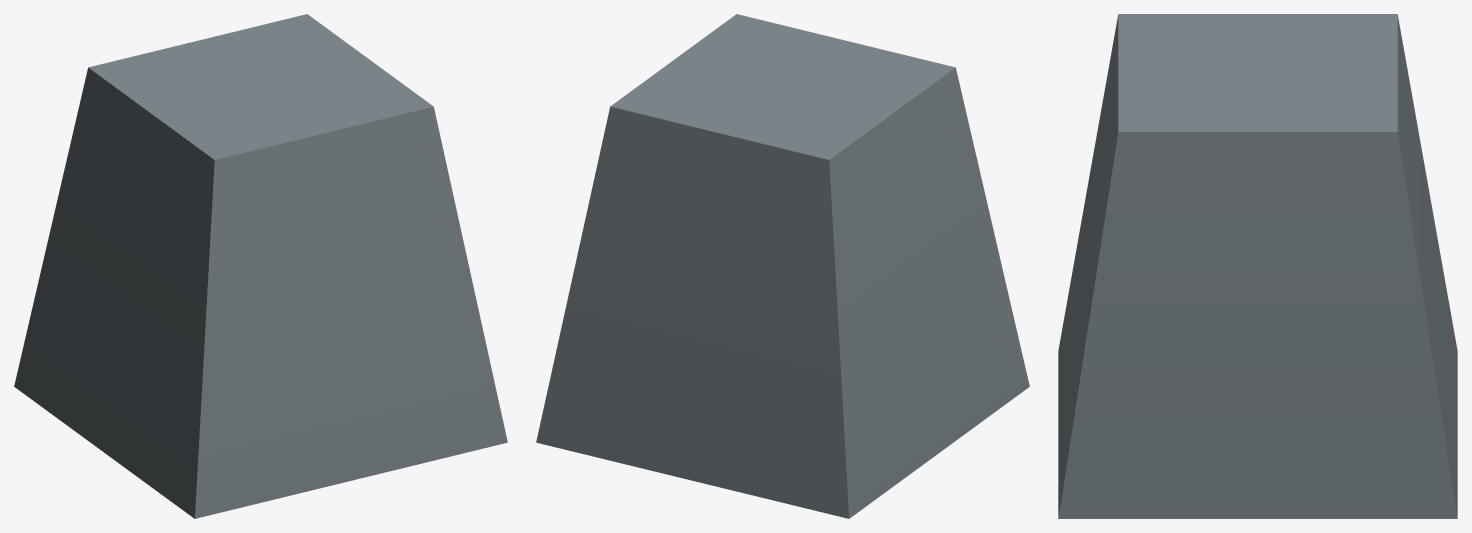
Rendered from kf_rock_2_a.fbx.
3 views of the same model, side by side, from view 1: azimuth 30°, elevation 25°; view 2: azimuth 150°, elevation 25°; view 3: azimuth 270°, elevation 25° (orthographic). The views are drawn at different scales.
Parts seen in each view (by area): view 1: kf_rock_2_a; view 2: kf_rock_2_a; view 3: kf_rock_2_a.
Part boxes in pixels (<box>): kf_rock_2_a: <box>14,14,507,518</box>; kf_rock_2_a: <box>536,14,1029,518</box>; kf_rock_2_a: <box>1058,14,1457,518</box>.
Size of the model in its own units: 0.5173 by 0.5173 by 0.5173.
1 material, 1 textured.
